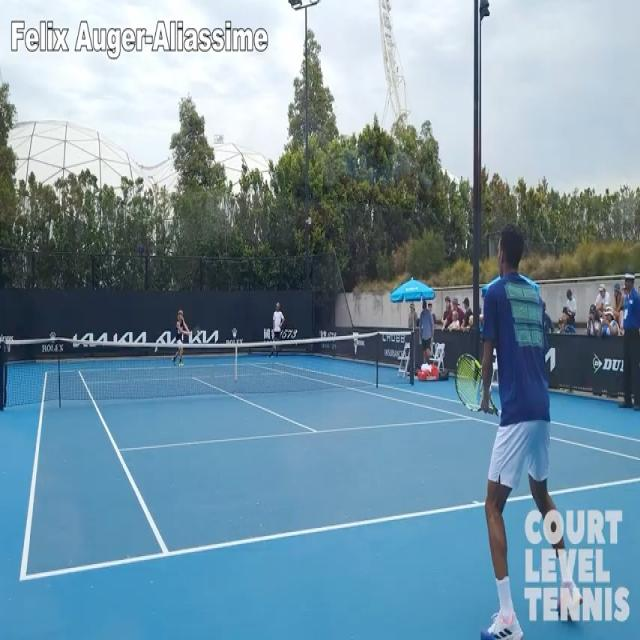ready-position: (455, 200, 579, 640)
